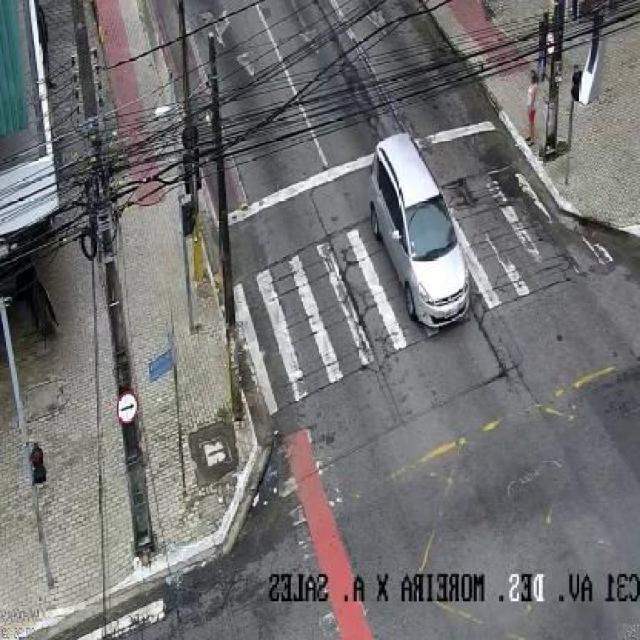Car: (368, 129, 472, 335)
